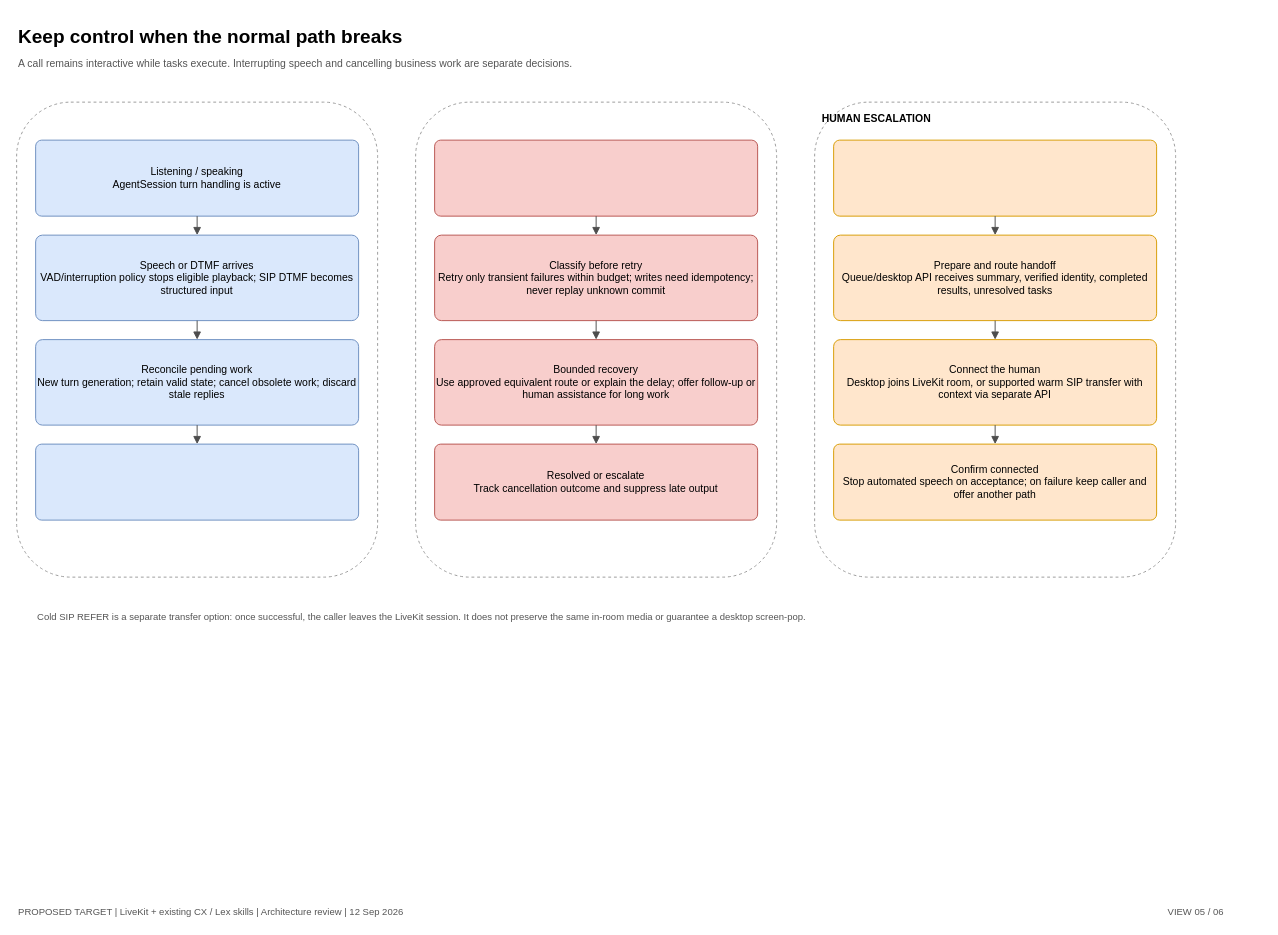
Image size: 1278x935. Some labels were removed from this diagram. The shapes that lost their labels are listed below. From the top down, each one's box as (x1, y1, x2, y2) in pixels, then its label:
(434, 139, 758, 216): Task deadline or error Timeout, malformed output, auth or quota failure
(833, 139, 1157, 216): Caller requests / policy triggers Reason + permitted context package
(16, 101, 378, 577): VOICE EVENTS
(415, 101, 777, 577): SKILL / PROVIDER FAILURE
(35, 443, 359, 520): Resume conversation No late answer may overwrite the new turn
